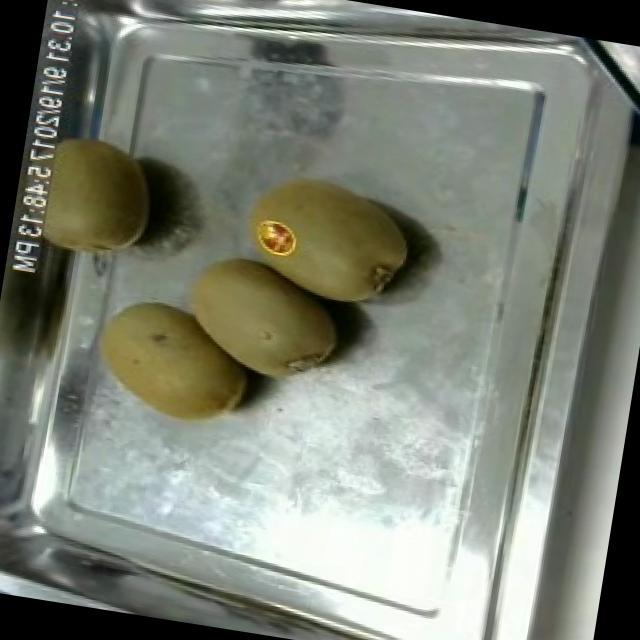Fruit: (72, 282, 268, 446), (226, 161, 424, 323), (161, 242, 355, 399), (14, 123, 170, 273)
